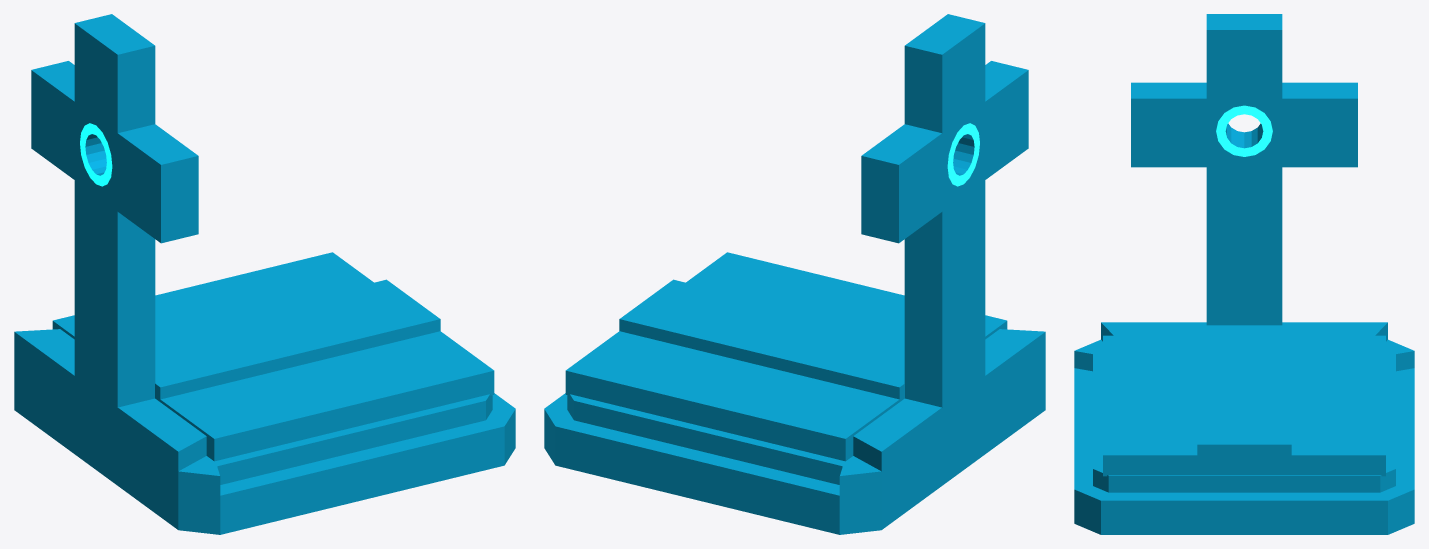
Rendered from Tomb1.fbx.
3 renders of one model, left to right at view 1: azimuth 30°, elevation 25°; view 2: azimuth 150°, elevation 25°; view 3: azimuth 270°, elevation 25°, orthographic. The views are drawn at different scales.
Parts seen in each view (by area): view 1: Tomb, Cube; view 2: Tomb, Cube; view 3: Tomb, Cube.
Boxes of the visible parts, left/top/right/bottom form: Tomb: left=14, top=14, right=515, bottom=534; Cube: left=52, top=252, right=494, bottom=461; Tomb: left=544, top=14, right=1045, bottom=534; Cube: left=565, top=252, right=1007, bottom=461; Tomb: left=1074, top=14, right=1414, bottom=534; Cube: left=1103, top=325, right=1385, bottom=476.
Bounding box in the file's own units: 90.04 × 110 × 90.
